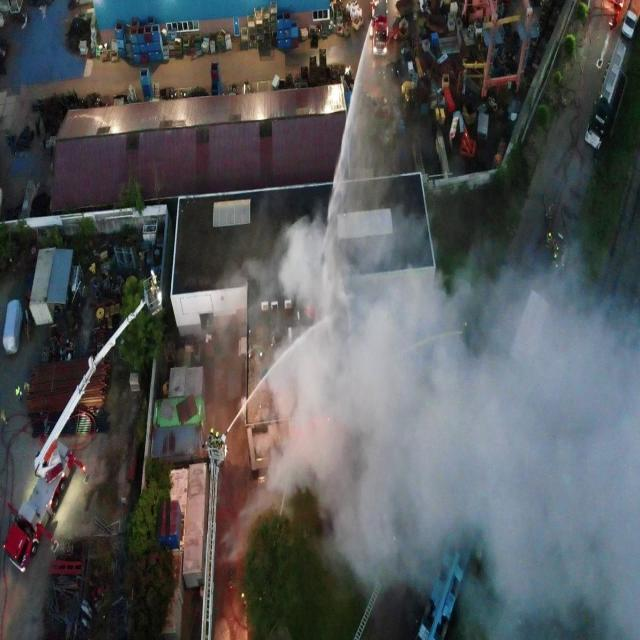Smoke: (210, 211, 640, 640)
